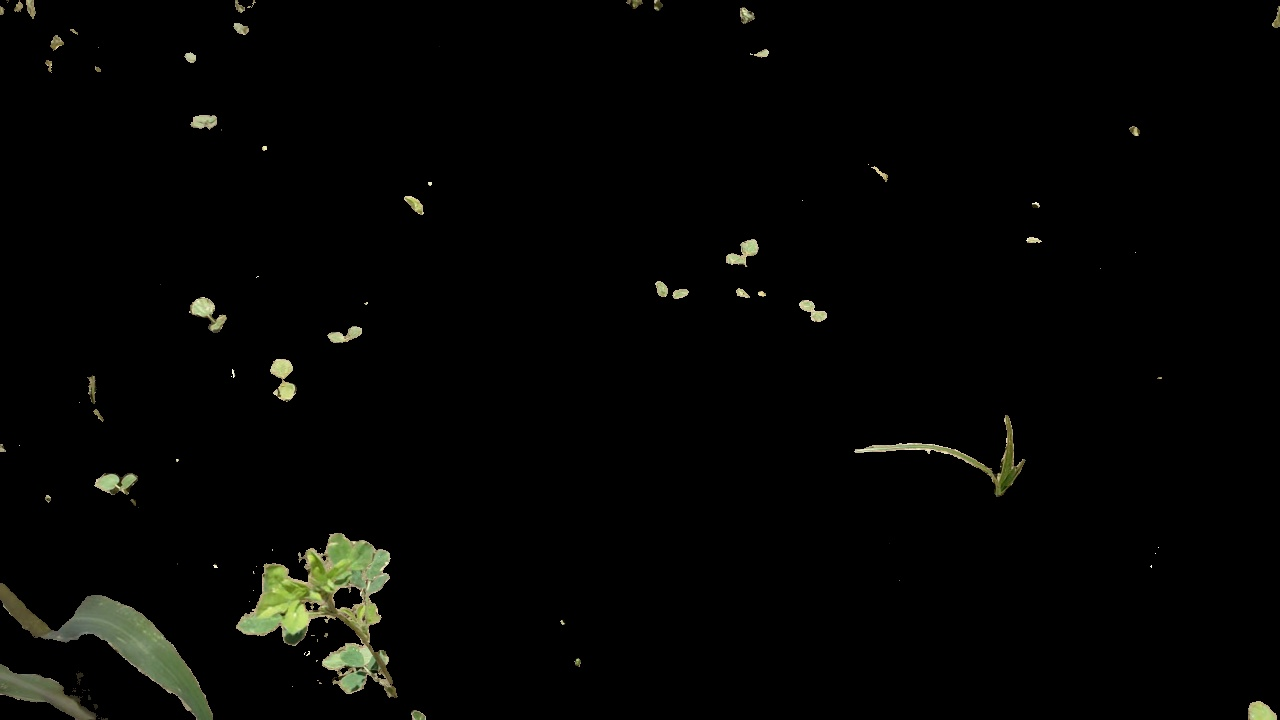crop: (1, 560, 232, 720)
weed: (235, 521, 444, 708), (835, 412, 1028, 500), (183, 292, 232, 332), (792, 292, 836, 336), (86, 469, 136, 507), (722, 236, 764, 281), (260, 358, 300, 403), (310, 323, 371, 350), (650, 277, 697, 308), (399, 189, 436, 221), (187, 108, 224, 133), (221, 21, 250, 37)
